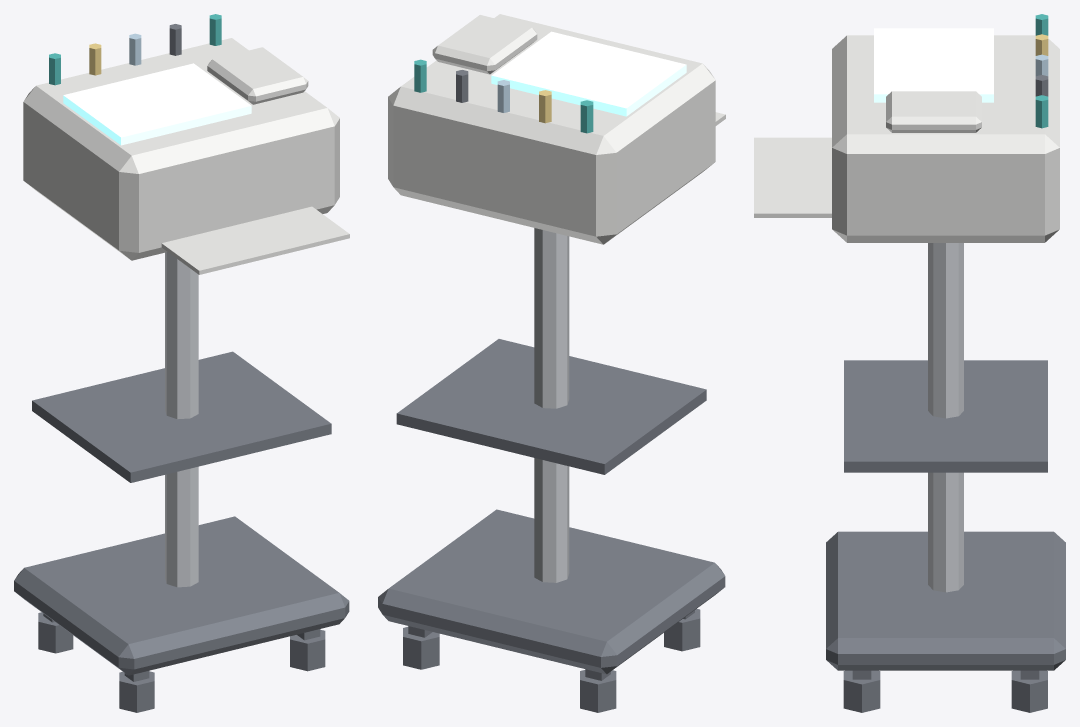
Rendered from medical-23605.glb.
3 views of the same model, side by side, from view 1: azimuth 30°, elevation 25°; view 2: azimuth 150°, elevation 25°; view 3: azimuth 270°, elevation 25° (orthographic). The views are drawn at different scales.
Parts seen in each view (by area): view 1: ecg-trolley; view 2: ecg-trolley; view 3: ecg-trolley.
Boxes of the visible parts, box(x1,y1,x2,y2) form: ecg-trolley: box(14, 14, 349, 712); ecg-trolley: box(378, 14, 725, 712); ecg-trolley: box(754, 14, 1065, 712).
Size of the model in its own units: 0.4599 by 1.11 by 0.52.
